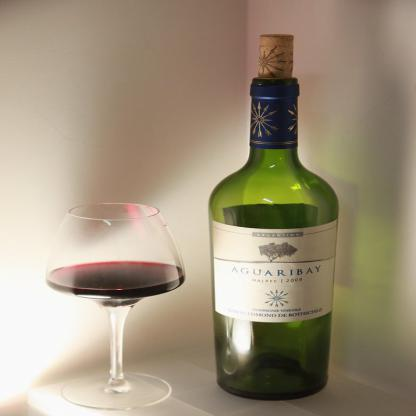drinking: (209, 35, 340, 402), (45, 203, 185, 410)
